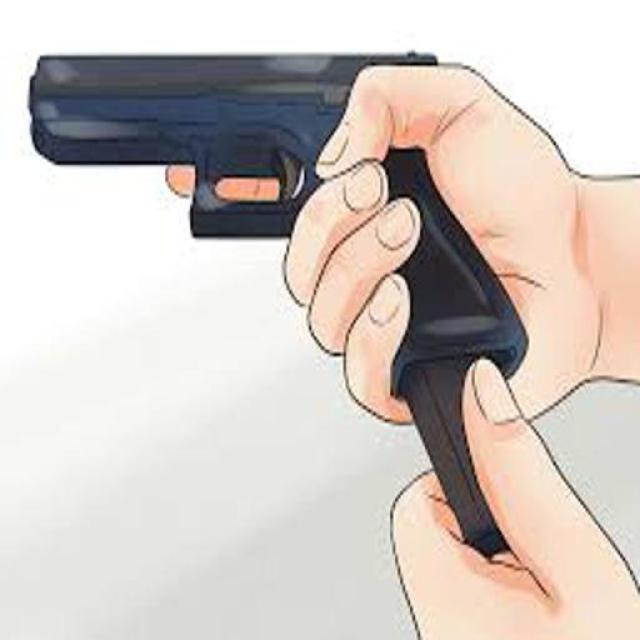pistol: (23, 45, 531, 399)
